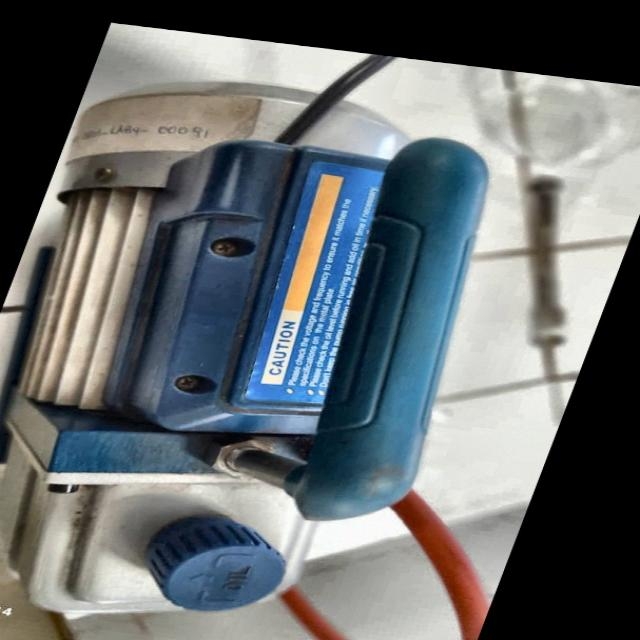Vacuum Pump: (0, 42, 558, 640)
